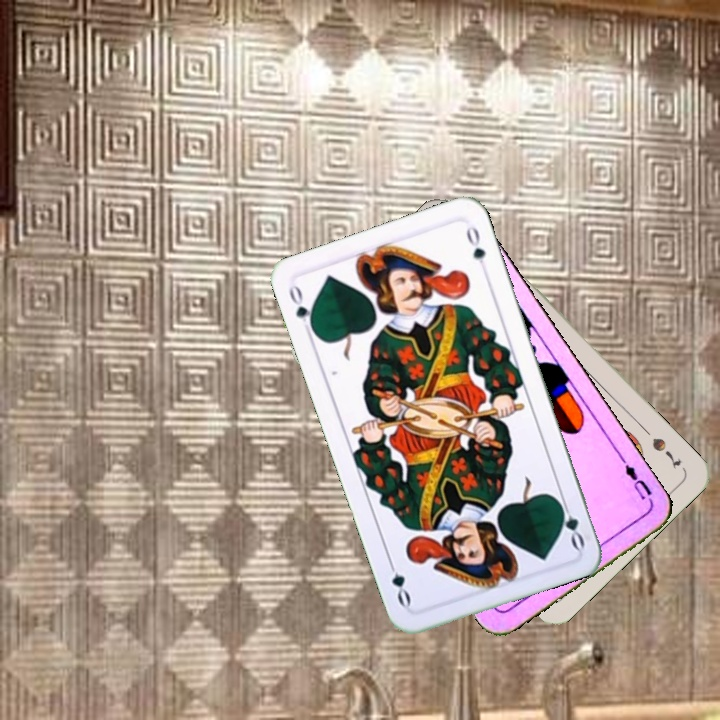EU: (617, 454, 656, 507)
GO: (552, 494, 588, 552), (285, 280, 318, 338)
S7: (648, 434, 684, 471)
